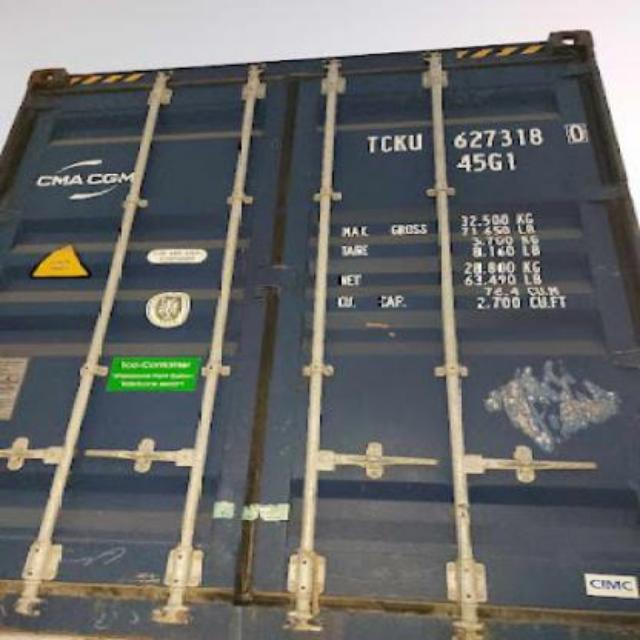0: (564, 117, 596, 147)
1: (514, 120, 526, 150)
2: (464, 122, 480, 152)
3: (498, 122, 512, 150)
6: (452, 124, 466, 152)
7: (480, 125, 496, 149)
8: (528, 118, 542, 148)
C: (378, 126, 392, 158)
K: (392, 126, 406, 158)
T: (358, 129, 378, 155)
U: (406, 128, 422, 154)
